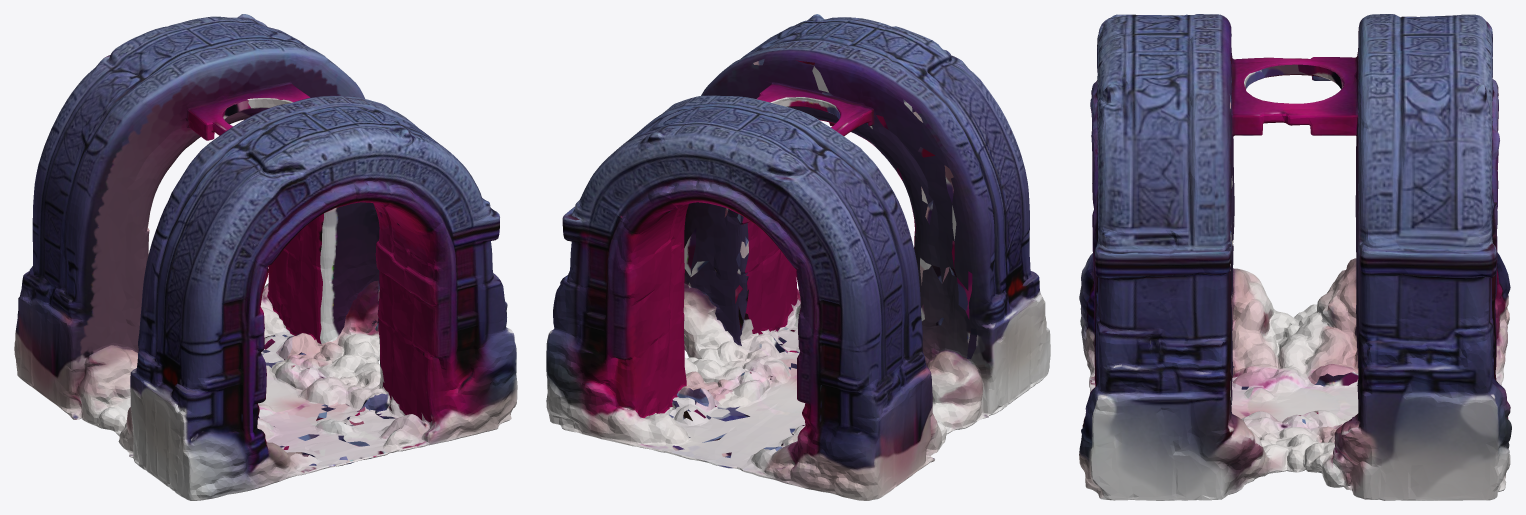
The model's file is lower-root-arch-texture-wrap-2026-05-15T01-14-11-809Z.glb.
The picture shows the model from 3 angles, left to right: view 1: azimuth 30°, elevation 25°; view 2: azimuth 150°, elevation 25°; view 3: azimuth 270°, elevation 25°; orthographic projection. The views are drawn at different scales.
Parts seen in each view (by area): view 1: temp_mesh.ply; view 2: temp_mesh.ply; view 3: temp_mesh.ply.
Boxes of the visible parts, x1,y1,x2,y2 form: temp_mesh.ply: (14,14,517,500); temp_mesh.ply: (546,14,1050,500); temp_mesh.ply: (1079,14,1511,500).
Size of the model in its own units: 1.98 by 1.86 by 1.95.
1 material, 1 textured.
